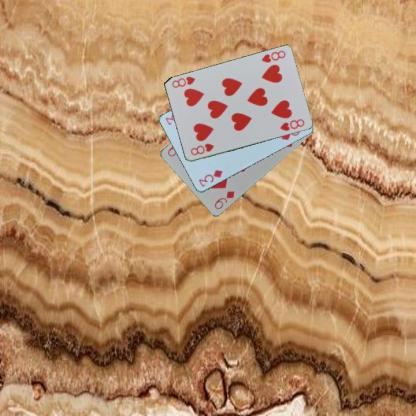3d: (196, 167, 223, 188)
8h: (188, 141, 215, 157), (259, 48, 286, 64)
9d: (211, 188, 236, 211)
